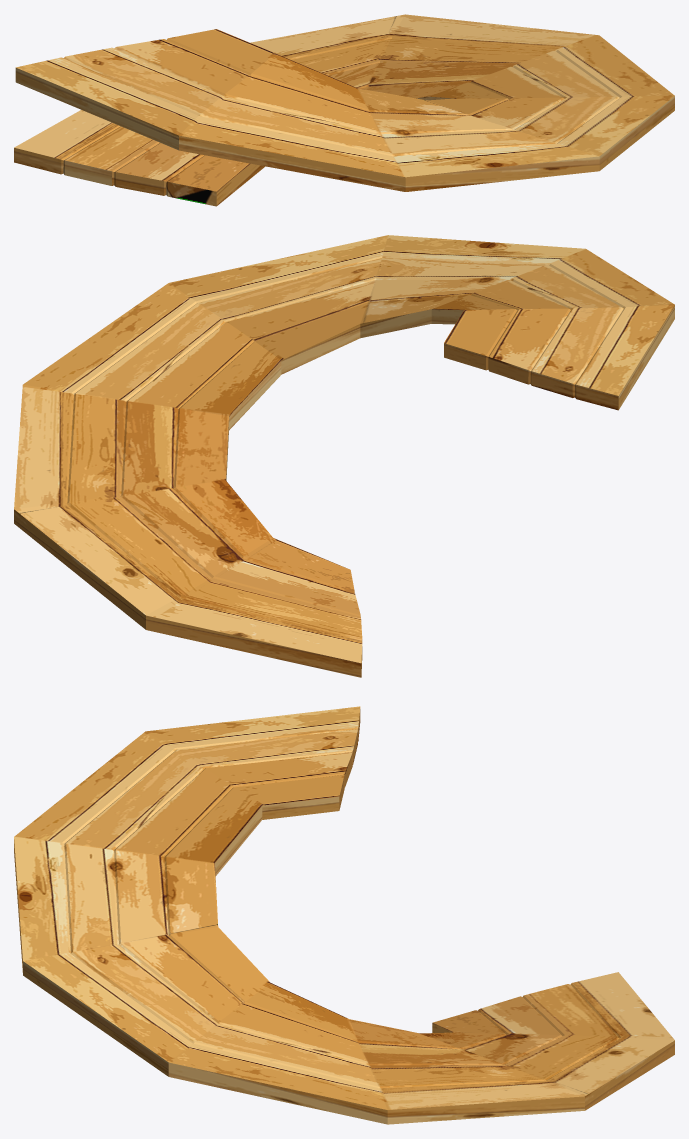
File: SM_TreePlatforms_Box005.FBX
The picture shows the model from 3 angles, top to bottom: view 1: azimuth 30°, elevation 25°; view 2: azimuth 150°, elevation 25°; view 3: azimuth 270°, elevation 25°; orthographic projection. The views are drawn at different scales.
Visible parts, largest first — view 1: Box005; view 2: Box005; view 3: Box005.
Boxes of the visible parts, left/top/right/bottom form: Box005: left=14, top=14, right=674, bottom=206; Box005: left=14, top=235, right=674, bottom=677; Box005: left=14, top=706, right=674, bottom=1124.
Size of the model in its own units: 0.2565 by 0.092 by 0.2528.
1 material, 1 textured.
